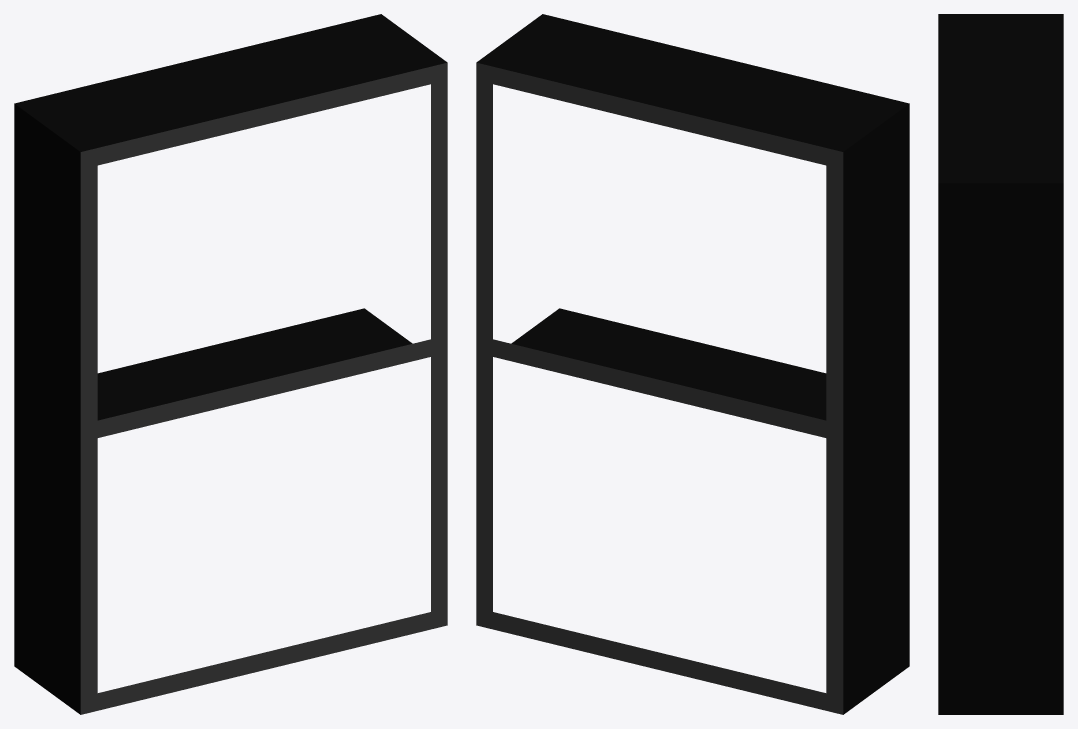
Rendered from 3ebb739e-5bd9-48fb-a683-d834a3757750.glb.
The picture shows the model from 3 angles, left to right: view 1: azimuth 30°, elevation 25°; view 2: azimuth 150°, elevation 25°; view 3: azimuth 270°, elevation 25°; orthographic projection. The views are drawn at different scales.
Parts seen in each view (by area): view 1: 8_AlphaProta_Black; view 2: 8_AlphaProta_Black; view 3: 8_AlphaProta_Black.
Boxes of the visible parts, x1,y1,x2,y2 form: 8_AlphaProta_Black: [14, 14, 447, 714]; 8_AlphaProta_Black: [476, 14, 909, 714]; 8_AlphaProta_Black: [938, 14, 1063, 714].
Size of what is drawn, in the model's own units: 0.1436 by 0.2105 by 0.045.
2 materials, 2 textured.
